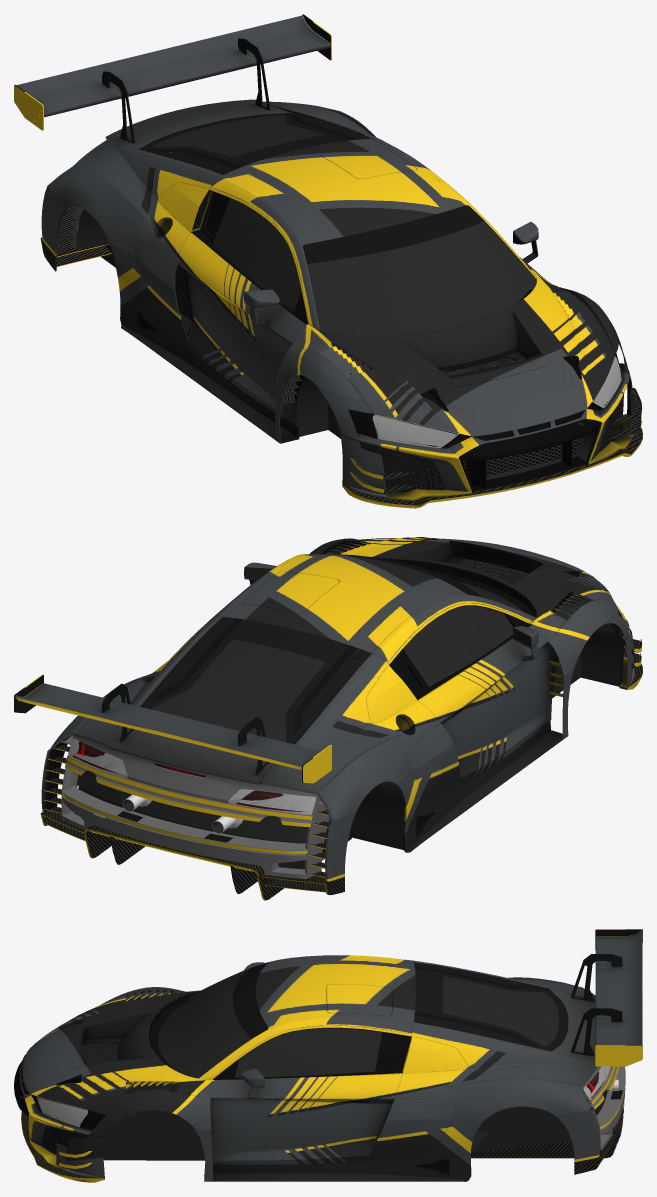
File: car 5.fbx
3 renders of one model, top to bottom at view 1: azimuth 30°, elevation 25°; view 2: azimuth 150°, elevation 25°; view 3: azimuth 270°, elevation 25°, orthographic. The views are drawn at different scales.
Visible parts, largest first — view 1: group2_model_6_Mesh, light_glass; view 2: group2_model_6_Mesh, light_glass; view 3: group2_model_6_Mesh, light_glass.
Part boxes in pixels (x1,y1,x2,y2): group2_model_6_Mesh: (14, 14, 642, 508); light_glass: (372, 356, 621, 447); group2_model_6_Mesh: (14, 537, 642, 900); light_glass: (69, 738, 315, 814); group2_model_6_Mesh: (14, 929, 642, 1182); light_glass: (37, 1066, 610, 1127).
Size of the model in its own units: 277 by 160 by 629.
Materials: 4 (3 with a texture image).
